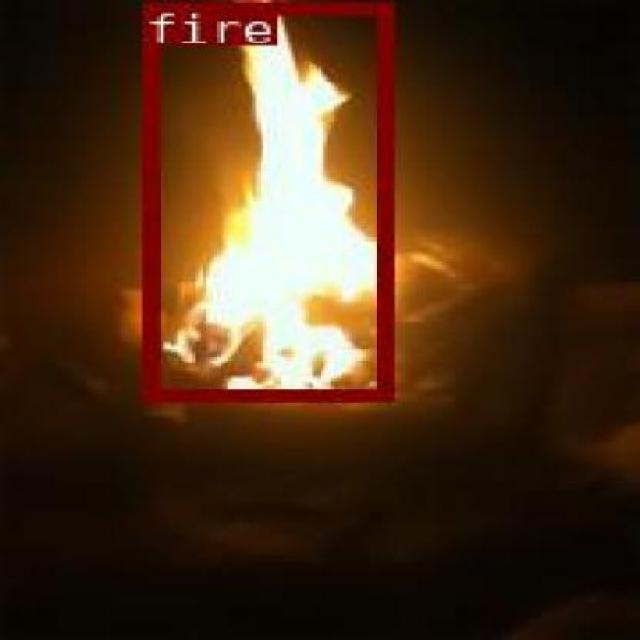Fire: (140, 2, 389, 400)
